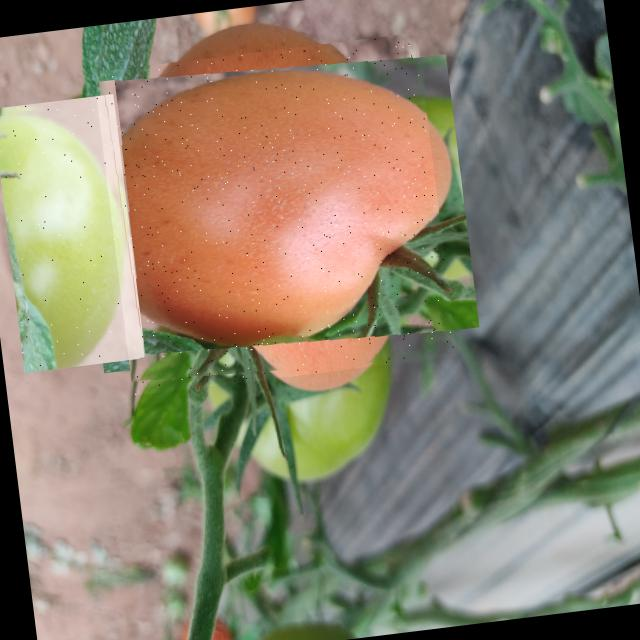Ripe Tomato: (93, 32, 456, 395)
Unripe Tomato: (0, 93, 145, 372)
